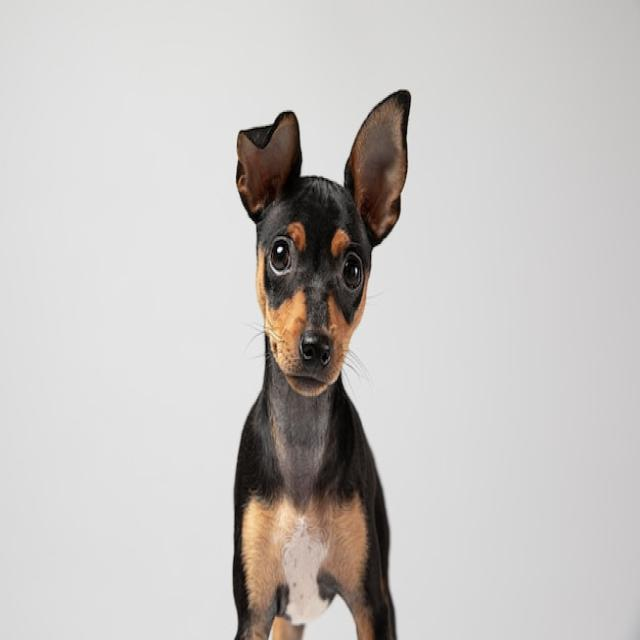Dog: (231, 89, 411, 640)
